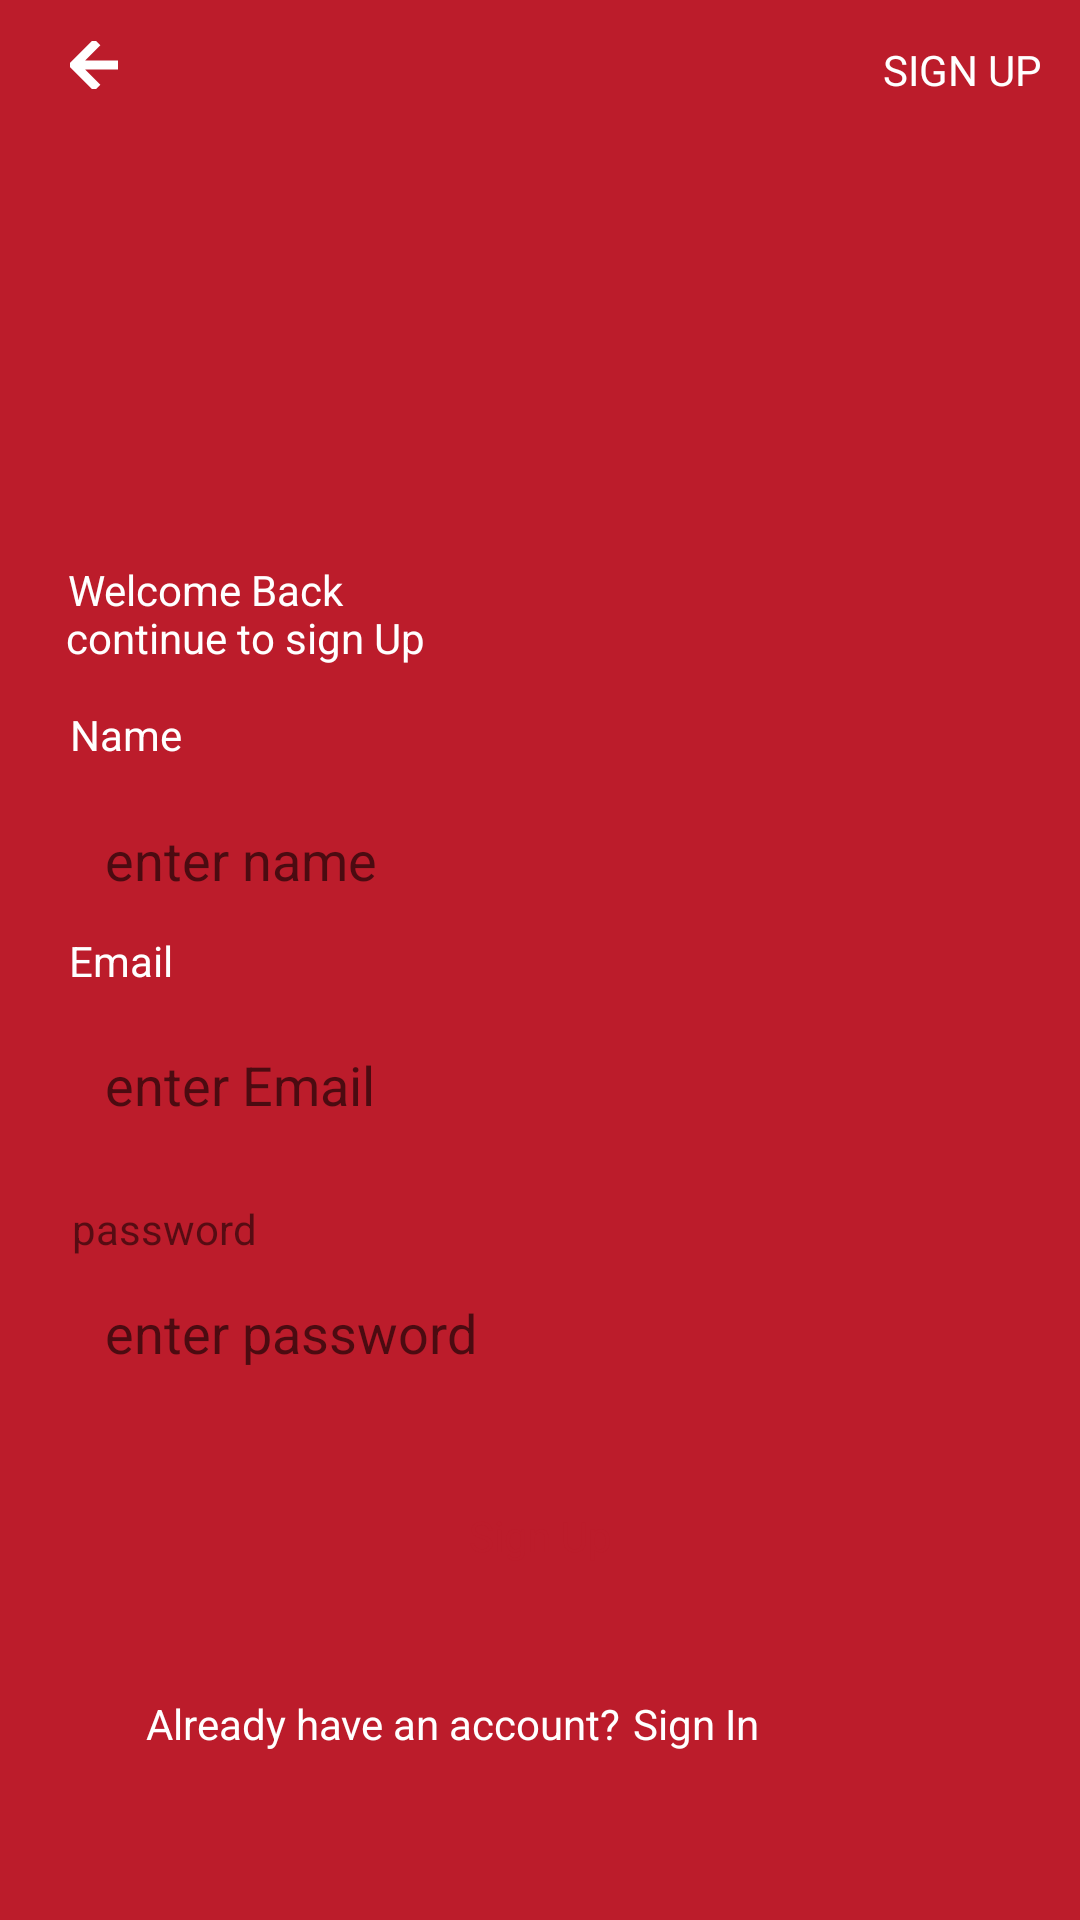

Where to tap for icons on this 1080px×1920px app screen, as (x,y):
back: (94,65)
